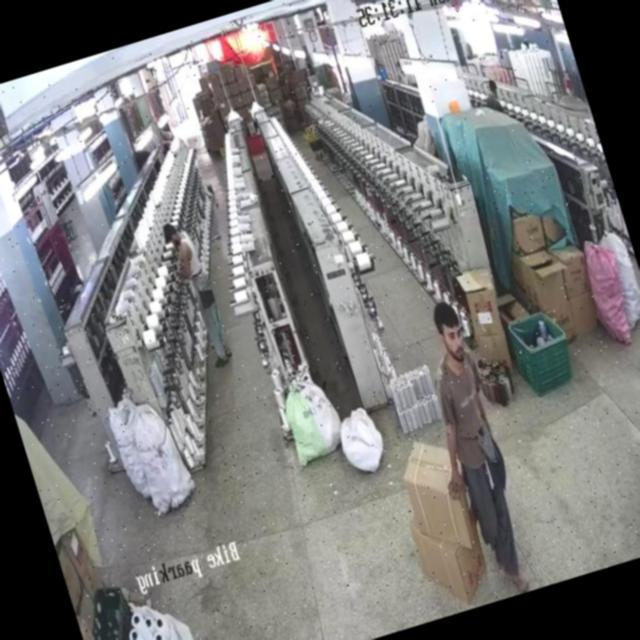person: (408, 299, 540, 584), (158, 207, 237, 379)
